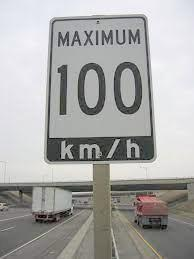speed limit sign: (45, 15, 156, 163)
